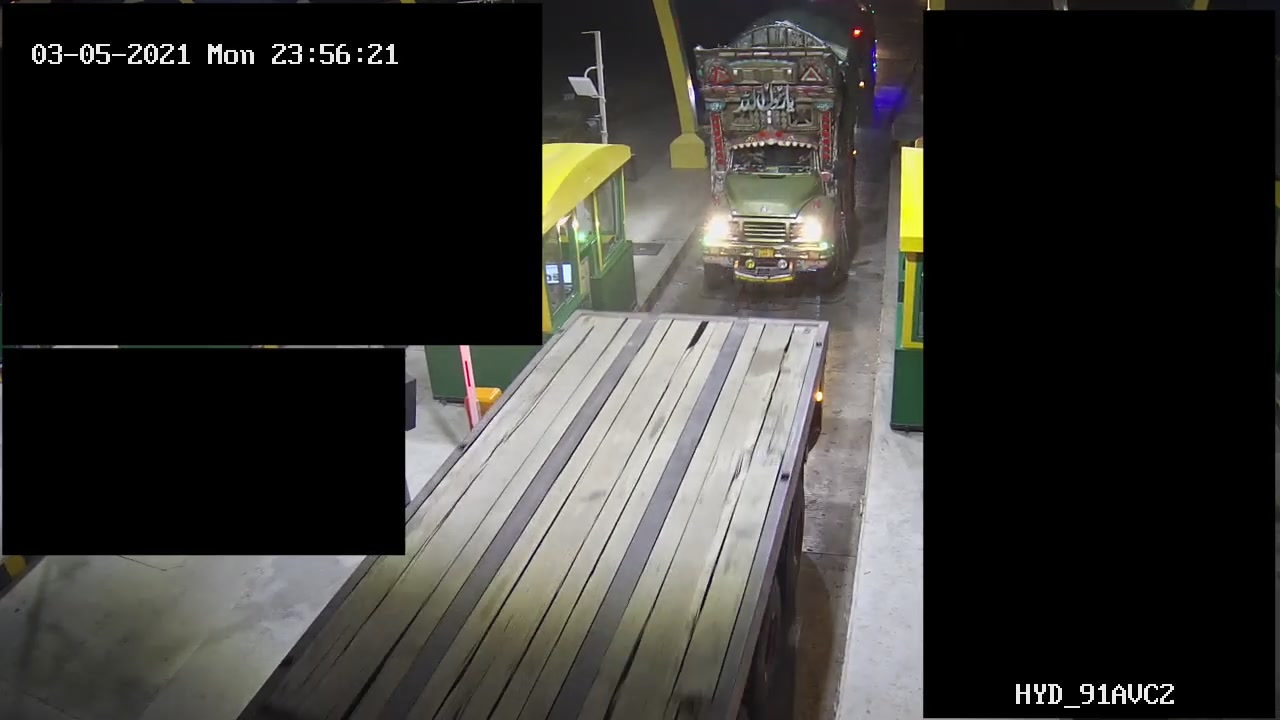F5: (690, 8, 862, 294)
